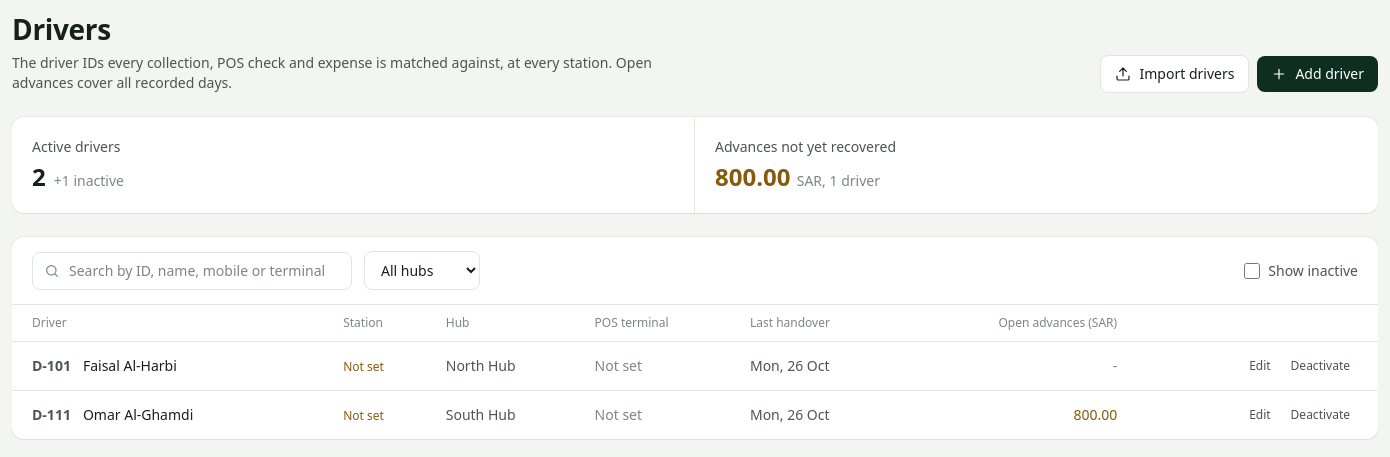
Test: search narrows the list
Expected: the text "Faisal Al-Harbi" is shown, [83,356,177,376]
Type "d-111" into the field with placeholder "Search by ID, name, mobile or terminal".
click(192, 270); type("d-111")  # box [32,252,352,290]
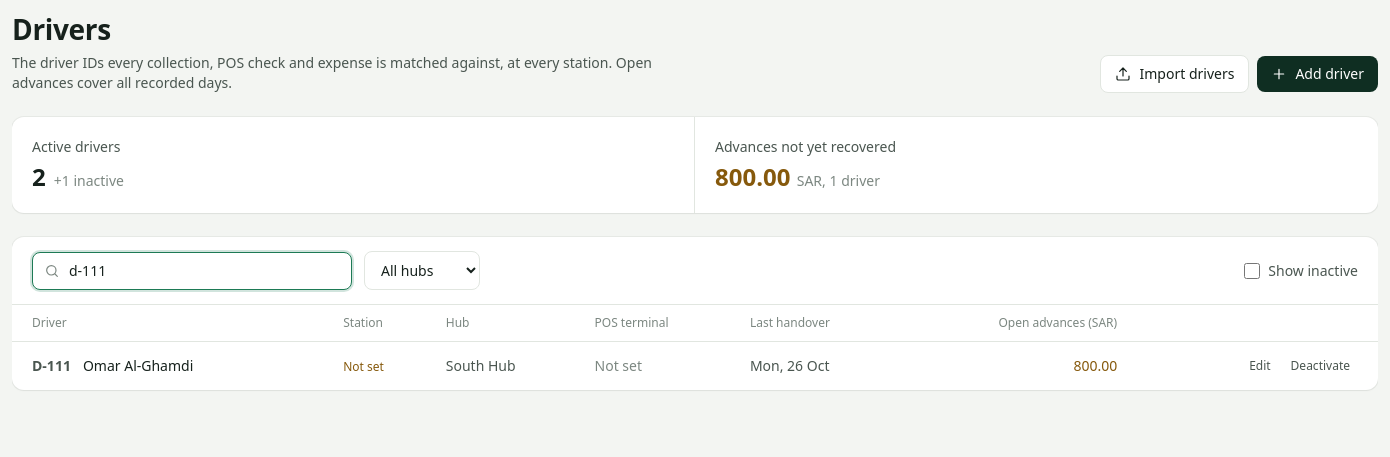
Expected: the text "Omar Al-Ghamdi" is shown, [83,356,193,376]
Expected: the text "Faisal Al-Harbi" is gone
